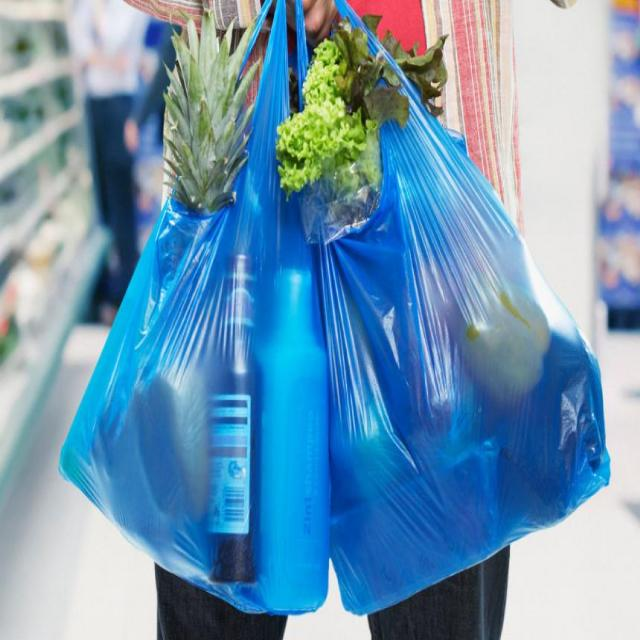plastic_bag: (289, 7, 613, 606), (62, 14, 348, 628)
